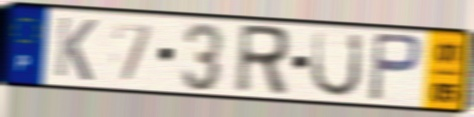3: (180, 19, 226, 94)
7: (111, 21, 154, 83)
K: (52, 14, 100, 84)
P: (366, 31, 425, 105)
R: (232, 22, 292, 99)
U: (308, 28, 366, 100)
